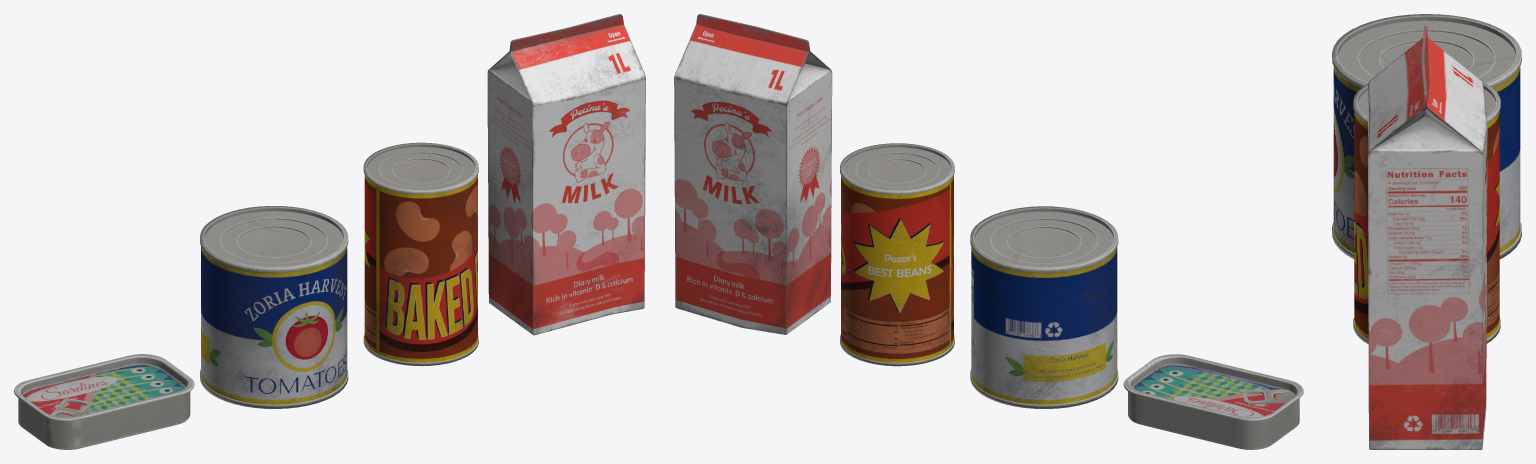
Rendered from long_life_food_4k.gltf.
3 renders of one model, left to right at view 1: azimuth 30°, elevation 25°; view 2: azimuth 150°, elevation 25°; view 3: azimuth 270°, elevation 25°, orthographic. The views are drawn at different scales.
Visible parts, largest first — view 1: long_life_food_milk, long_life_food_tomatoes, long_life_food_beans, long_life_food_sardines; view 2: long_life_food_milk, long_life_food_tomatoes, long_life_food_beans, long_life_food_sardines; view 3: long_life_food_milk, long_life_food_tomatoes, long_life_food_beans.
Boxes of the visible parts, x1,y1,x2,y2 form: long_life_food_milk: [487, 14, 645, 335]; long_life_food_tomatoes: [200, 206, 348, 408]; long_life_food_beans: [363, 142, 478, 366]; long_life_food_sardines: [14, 354, 194, 449]; long_life_food_milk: [674, 14, 832, 334]; long_life_food_tomatoes: [970, 206, 1118, 408]; long_life_food_beans: [840, 143, 954, 366]; long_life_food_sardines: [1123, 354, 1303, 449]; long_life_food_milk: [1368, 25, 1487, 449]; long_life_food_tomatoes: [1332, 14, 1521, 259]; long_life_food_beans: [1353, 81, 1500, 344].
Bounding box in the file's own units: 0.5238 × 0.2376 × 0.1136.
Materials: 1 (1 with a texture image).
